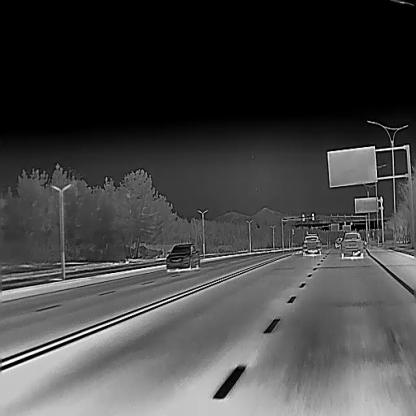car: (164, 241, 200, 270), (338, 231, 364, 258), (302, 232, 321, 256)
